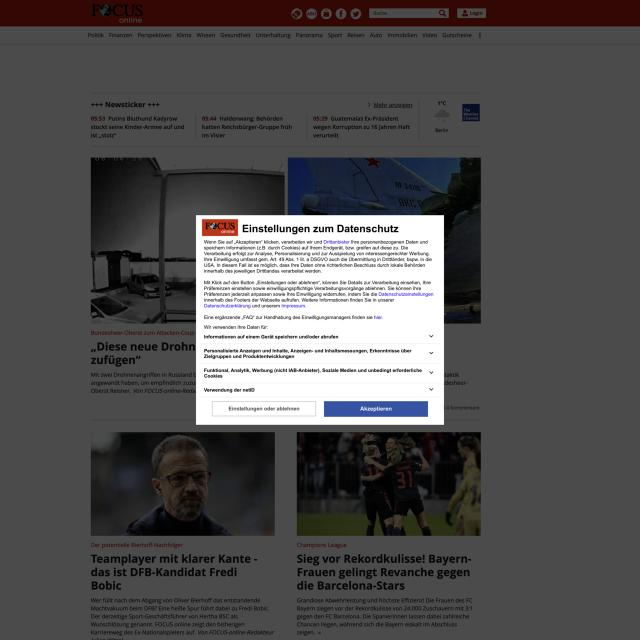CheckBox: (324, 400, 429, 418), (212, 400, 316, 417)
ImageButton: (204, 332, 442, 398)
Input field: (202, 238, 433, 274)
date picker: (202, 219, 238, 236)
header: (192, 213, 448, 428)
image: (242, 223, 401, 235)
